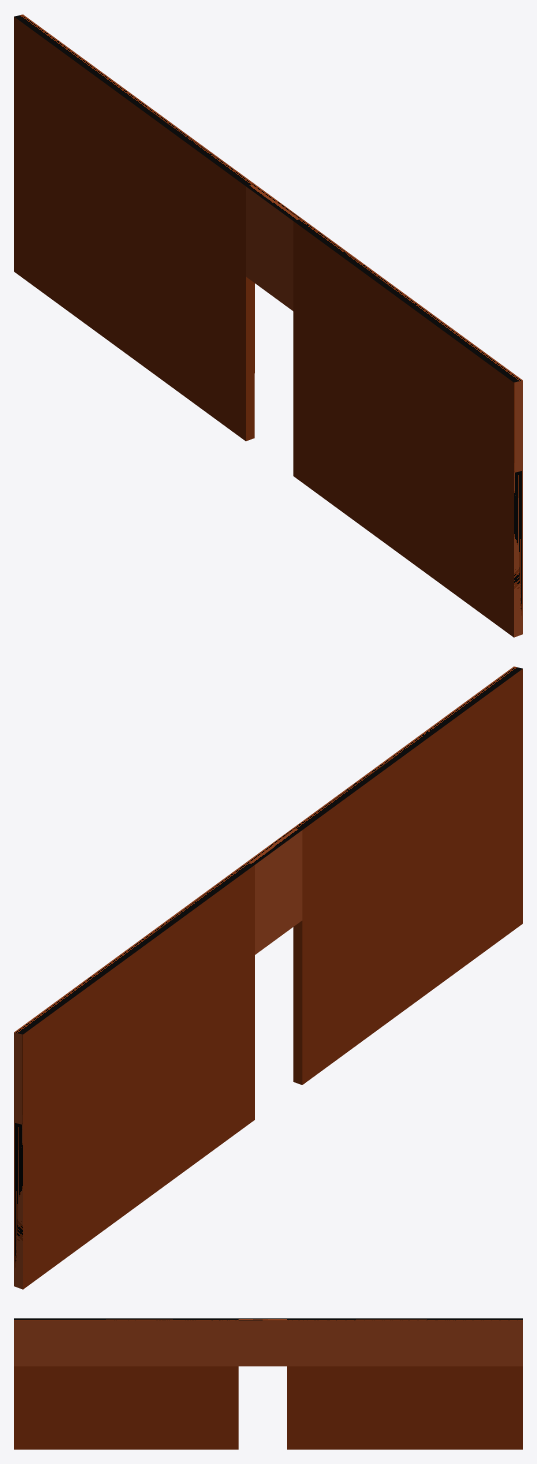
File: Door_Way.obj
The picture shows the model from 3 angles, top to bottom: view 1: azimuth 30°, elevation 25°; view 2: azimuth 150°, elevation 25°; view 3: azimuth 270°, elevation 25°; orthographic projection. The views are drawn at different scales.
Size of the model in its own units: 0.2707 by 7.28 by 25.85.
